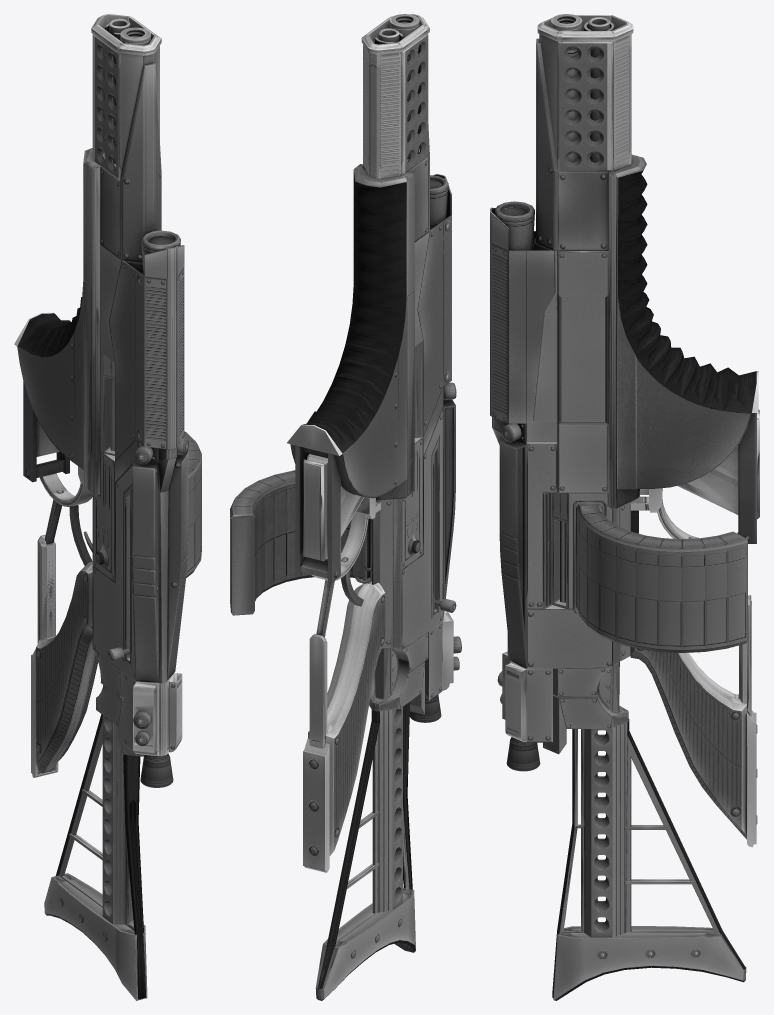
File: Futuristic_Weapon_Lowpoly.obj
3 views of the same model, side by side, from view 1: azimuth 30°, elevation 25°; view 2: azimuth 150°, elevation 25°; view 3: azimuth 270°, elevation 25° (orthographic). The views are drawn at different scales.
Parts seen in each view (by area): view 1: Futuristic_Weapon_Cube.001; view 2: Futuristic_Weapon_Cube.001; view 3: Futuristic_Weapon_Cube.001.
Part boxes in pixels (bbox=[...]): Futuristic_Weapon_Cube.001: bbox=[14, 14, 201, 1000]; Futuristic_Weapon_Cube.001: bbox=[230, 14, 461, 1000]; Futuristic_Weapon_Cube.001: bbox=[490, 14, 759, 1000].
Bounding box in the file's own units: 3.5 × 21.7 × 5.42.
Materials: 13 (13 with a texture image).
